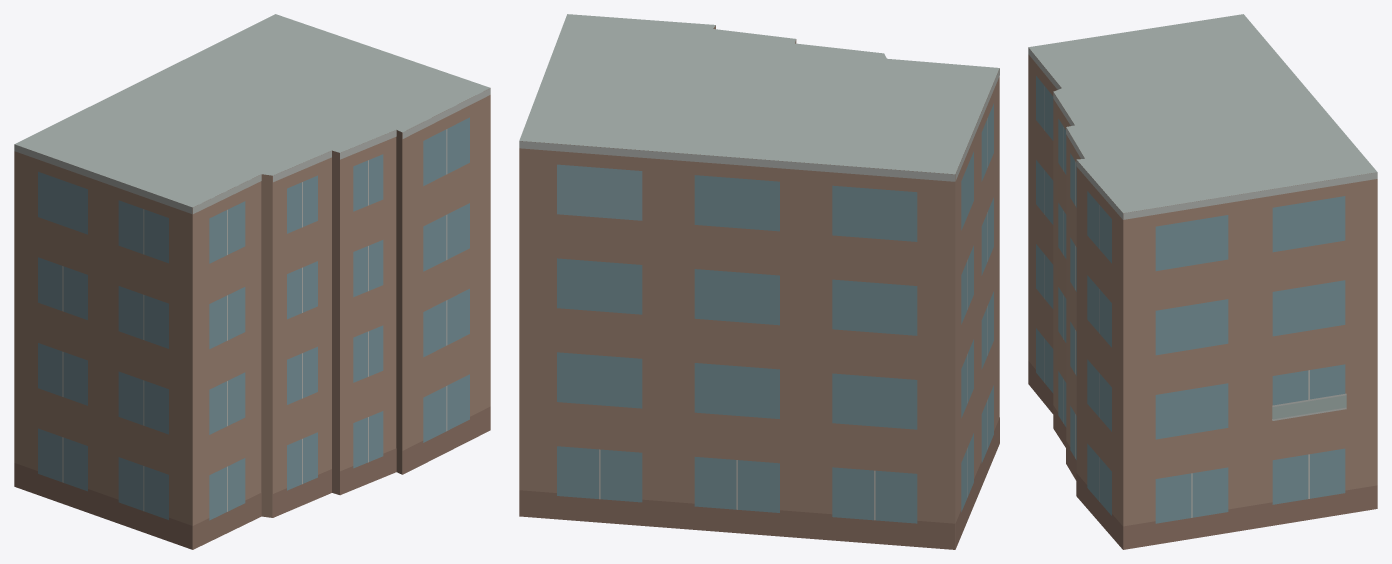
File: survey-upis-32636203.glb
3 views of the same model, side by side, from view 1: azimuth 30°, elevation 25°; view 2: azimuth 150°, elevation 25°; view 3: azimuth 270°, elevation 25° (orthographic). The views are drawn at different scales.
Parts seen in each view (by area): view 1: survey-upis-32636203.tmp; view 2: survey-upis-32636203.tmp; view 3: survey-upis-32636203.tmp.
Boxes of the visible parts, x1,y1,x2,y2 form: survey-upis-32636203.tmp: (14,14,490,549); survey-upis-32636203.tmp: (519,14,999,549); survey-upis-32636203.tmp: (1028,14,1377,549).
Bounding box in the file's own units: 15.49 × 12.2 × 11.48.
